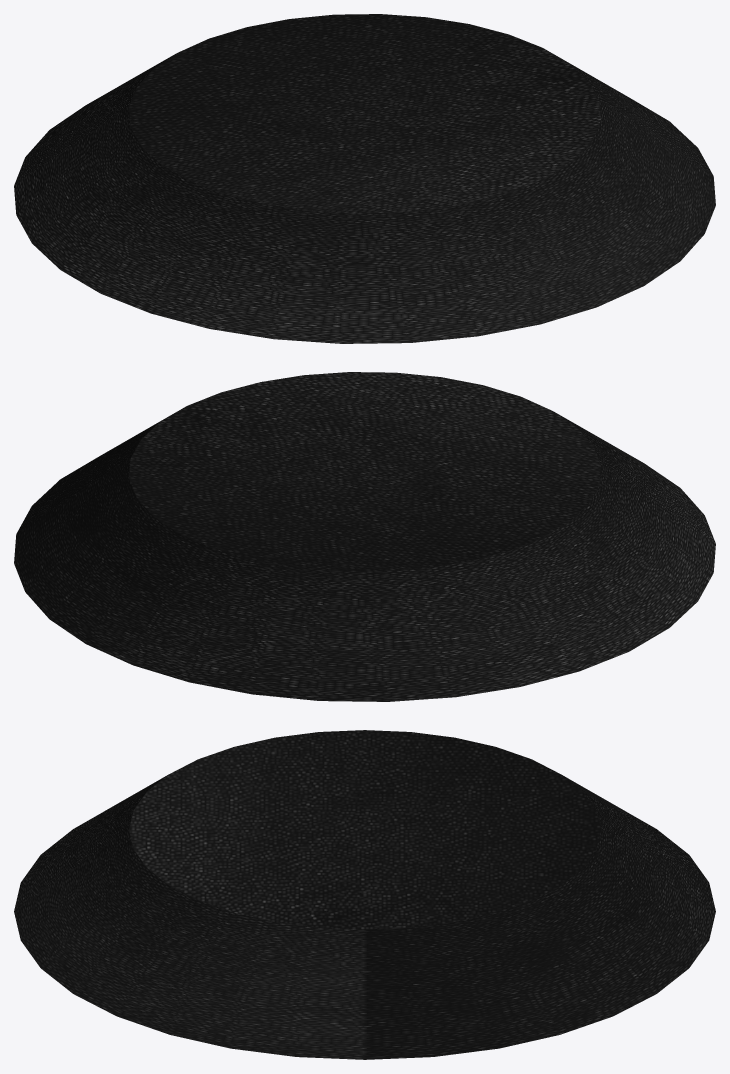
File: foco1.obj
3 renders of one model, top to bottom at view 1: azimuth 30°, elevation 25°; view 2: azimuth 150°, elevation 25°; view 3: azimuth 270°, elevation 25°, orthographic.
Visible parts, largest first — view 1: Cylinder.001; view 2: Cylinder.001; view 3: Cylinder.001.
Boxes of the visible parts, bbox=[...] form: Cylinder.001: bbox=[14, 14, 715, 343]; Cylinder.001: bbox=[14, 372, 715, 701]; Cylinder.001: bbox=[14, 730, 715, 1059].
Bounding box in the file's own units: 2.14 × 0.2749 × 2.14.
1 material, 1 textured.
